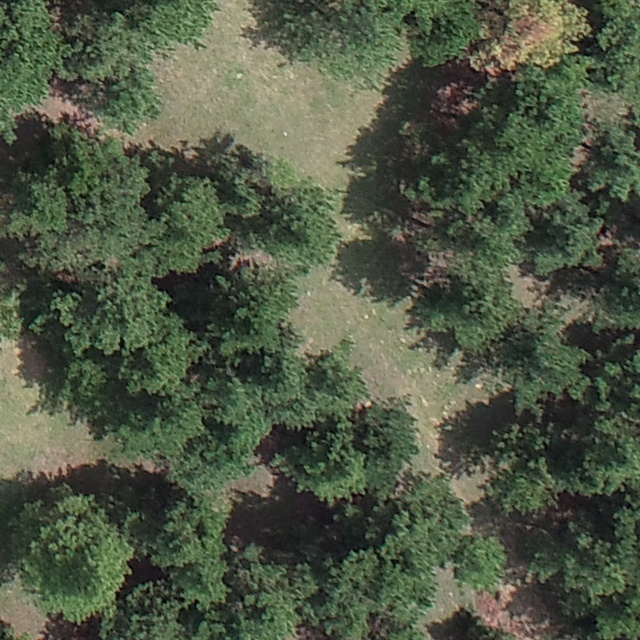unhealthy: (469, 0, 593, 75)
